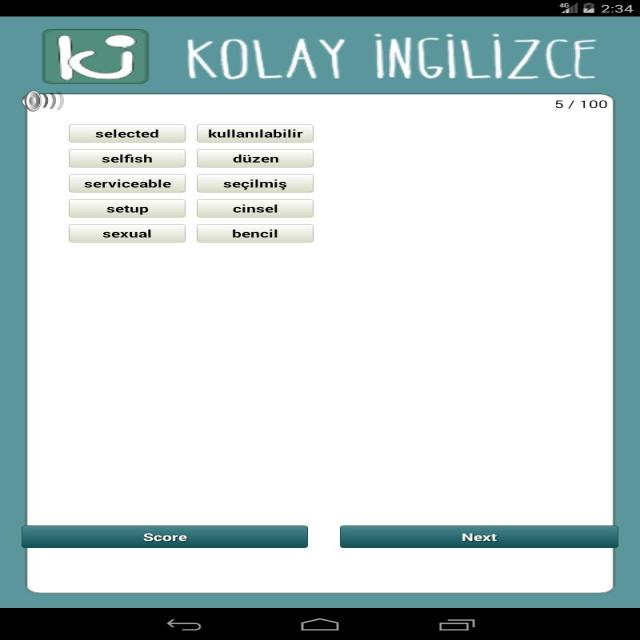button: (340, 524, 616, 549), (23, 524, 310, 548), (69, 198, 185, 219), (197, 174, 314, 194), (198, 223, 312, 243), (198, 149, 314, 168), (70, 174, 186, 193), (198, 124, 312, 143), (69, 149, 186, 167), (70, 226, 184, 244), (72, 124, 185, 141), (200, 202, 313, 218)
heading: (177, 31, 611, 84)
image: (46, 27, 148, 87), (21, 87, 65, 114)
text: (554, 97, 612, 112)
